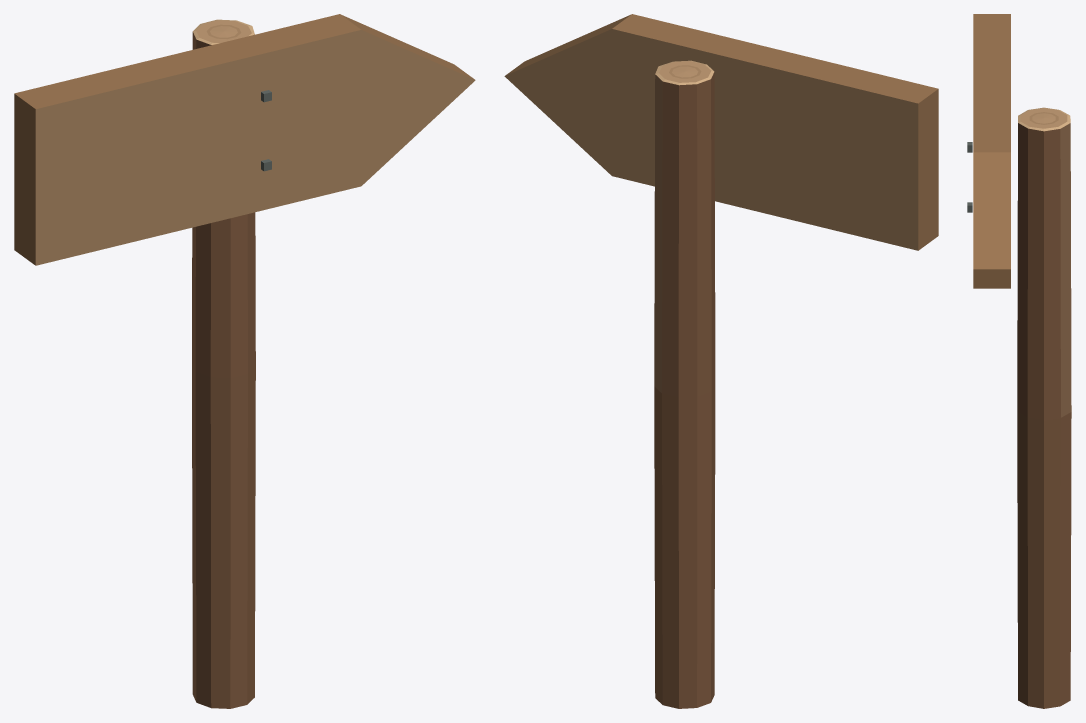
File: Trail_Sign.glb
3 renders of one model, left to right at view 1: azimuth 30°, elevation 25°; view 2: azimuth 150°, elevation 25°; view 3: azimuth 270°, elevation 25°, orthographic. The views are drawn at different scales.
Visible parts, largest first — view 1: Trail_Sign; view 2: Trail_Sign; view 3: Trail_Sign.
Part boxes in pixels (left/top/right/bottom): Trail_Sign: left=14, top=14, right=475, bottom=708; Trail_Sign: left=504, top=14, right=938, bottom=708; Trail_Sign: left=967, top=14, right=1071, bottom=708.
Size of the model in its own units: 1 by 1.46 by 0.2351.
